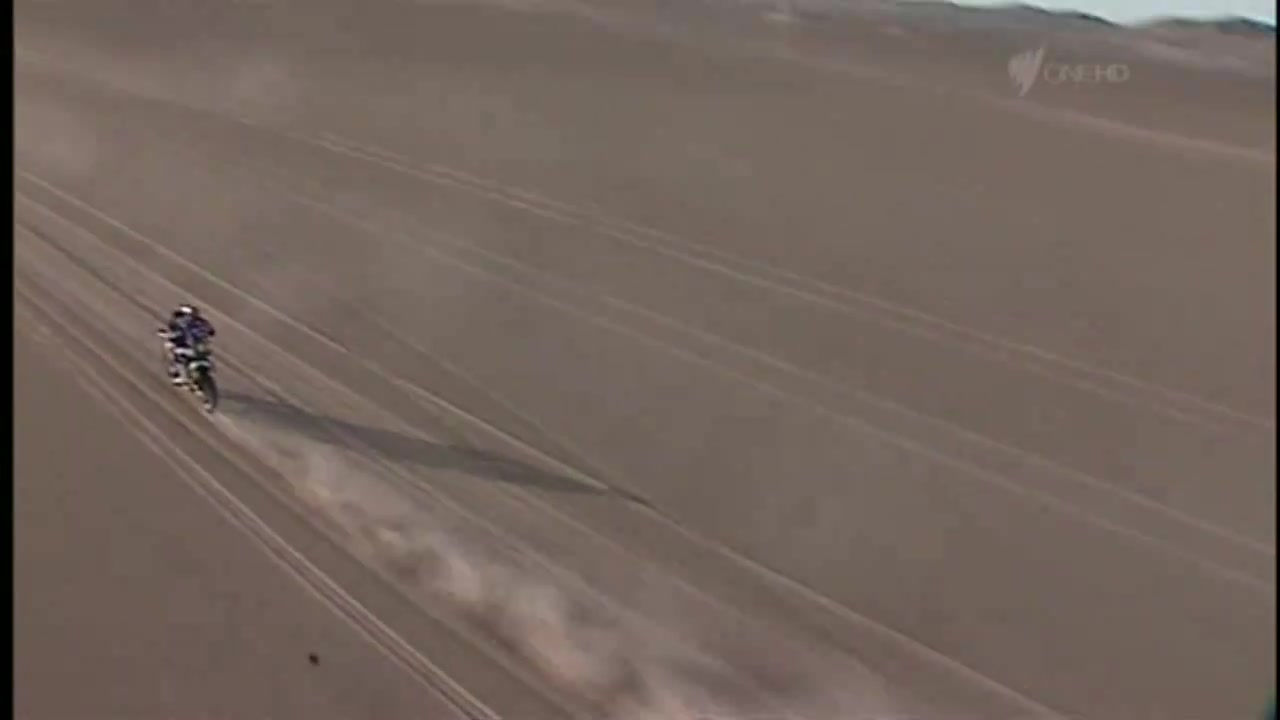motorbike: (153, 323, 225, 416)
